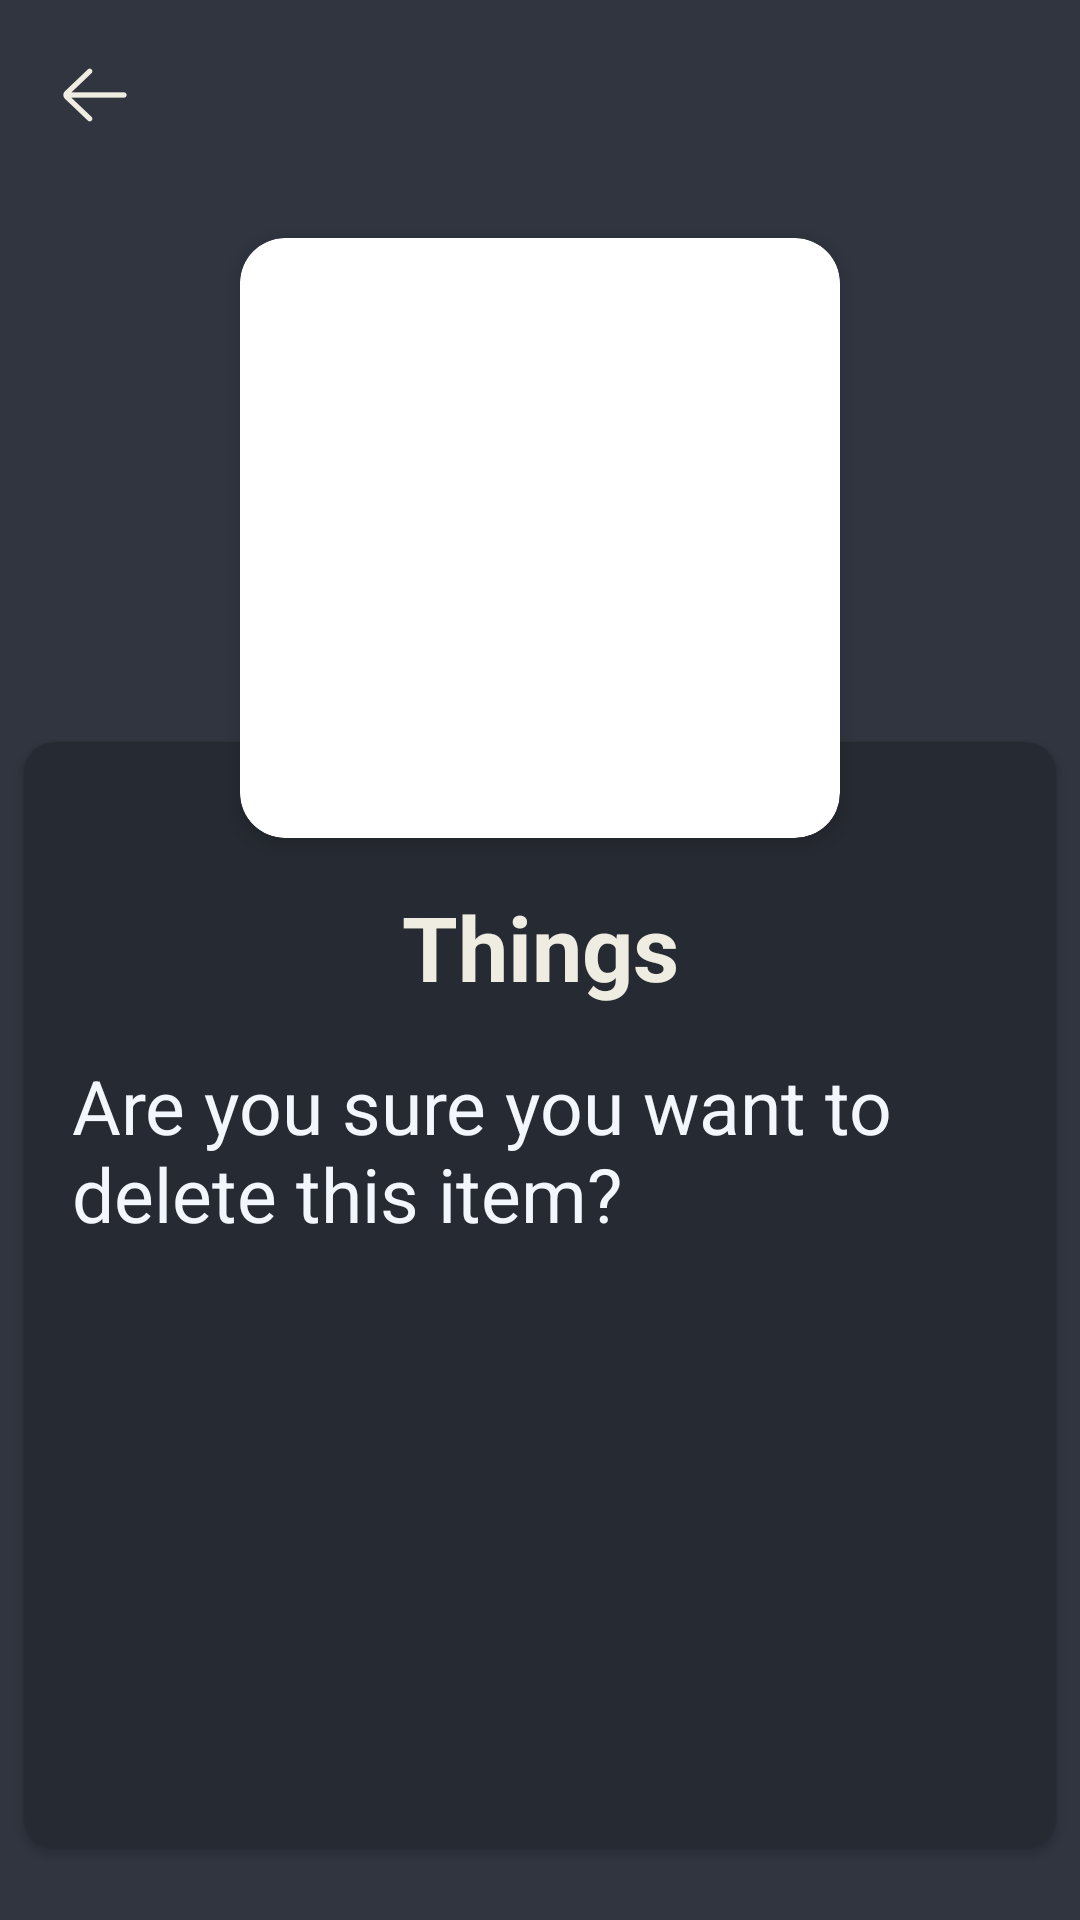

Named icons in this screenshot (1080 x 1920) and their bounding boxes, (x1, y1, x2, y2):
back: (63, 68, 127, 122)
